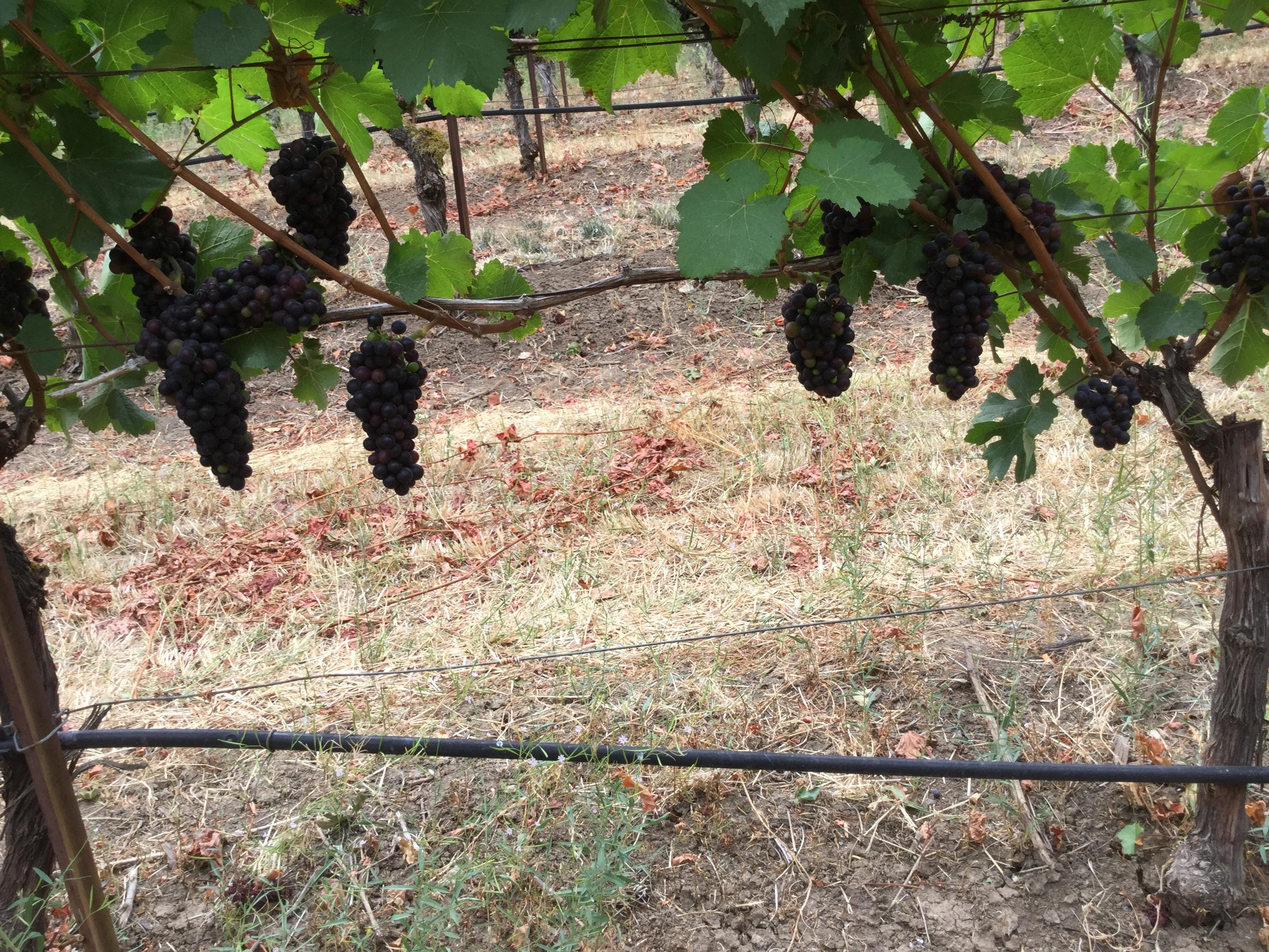leaf: (554, 0, 681, 108), (676, 159, 788, 277), (55, 107, 170, 221), (375, 0, 507, 99), (1002, 7, 1113, 117), (0, 139, 102, 257), (798, 120, 922, 213), (965, 358, 1057, 482), (124, 4, 215, 112), (703, 109, 801, 193), (318, 66, 401, 162), (197, 73, 278, 171), (718, 3, 798, 102), (930, 71, 1024, 130), (93, 0, 171, 70), (1211, 297, 1268, 385), (1207, 86, 1268, 166), (193, 3, 269, 66), (867, 208, 928, 285), (188, 215, 253, 283), (315, 12, 378, 81), (79, 380, 155, 435), (1060, 144, 1124, 208), (1135, 290, 1205, 343), (267, 0, 341, 47), (1102, 280, 1150, 352), (291, 337, 339, 409), (383, 228, 429, 301), (223, 322, 290, 371), (426, 231, 474, 298), (14, 313, 65, 376), (1096, 231, 1157, 280), (785, 186, 825, 255), (469, 258, 532, 299), (838, 240, 878, 303), (105, 387, 156, 436), (505, 0, 577, 34), (420, 81, 486, 115), (101, 75, 152, 118), (1182, 216, 1225, 262), (44, 392, 82, 444), (1094, 33, 1125, 89), (753, 0, 808, 30), (1169, 19, 1200, 65), (1136, 22, 1171, 60), (0, 223, 30, 263), (952, 198, 987, 231), (499, 314, 542, 340), (499, 314, 541, 339), (136, 28, 171, 56), (742, 277, 778, 301), (49, 158, 68, 175), (491, 312, 514, 319), (499, 312, 509, 316), (31, 235, 37, 239), (852, 240, 860, 243), (348, 17, 356, 19), (63, 257, 66, 262), (346, 17, 354, 18), (499, 66, 500, 74), (238, 70, 243, 71), (856, 203, 857, 207), (1221, 196, 1222, 197), (561, 47, 562, 48), (156, 51, 157, 51), (633, 77, 637, 77)
